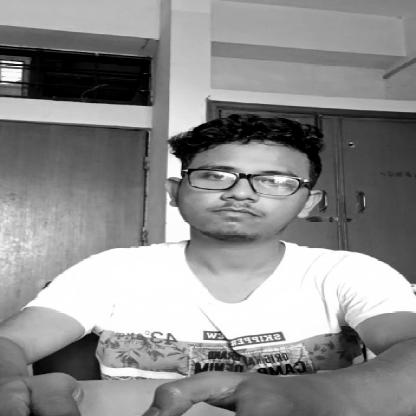Normal: (178, 138, 318, 238)
